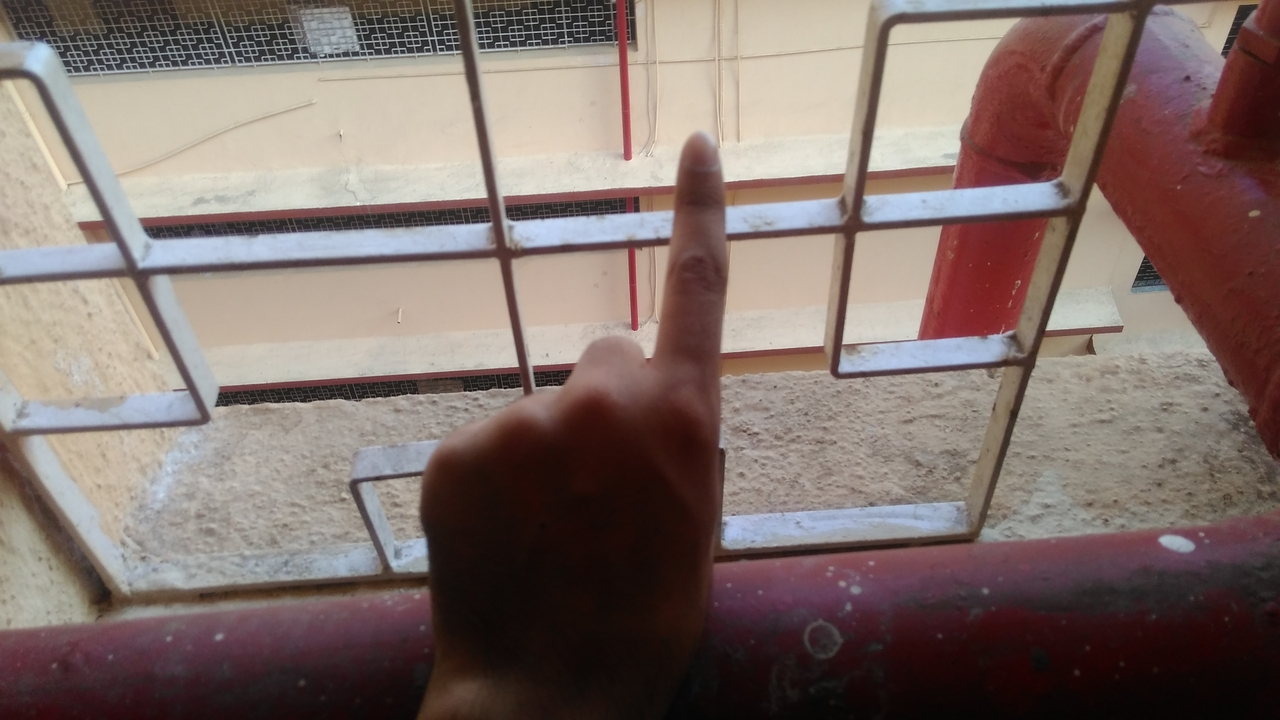fingertip: (674, 126, 726, 172)
